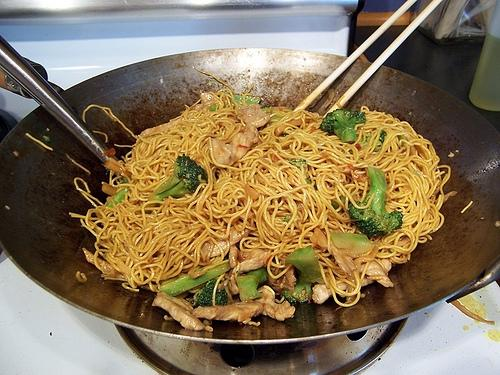broccoli: (348, 166, 403, 237), (154, 153, 208, 200), (159, 262, 230, 296), (283, 244, 322, 304), (320, 108, 366, 144), (193, 279, 228, 307), (330, 232, 374, 254), (236, 274, 262, 302), (107, 186, 130, 208), (230, 94, 261, 106), (269, 115, 284, 126), (379, 130, 387, 143), (282, 214, 291, 223)
